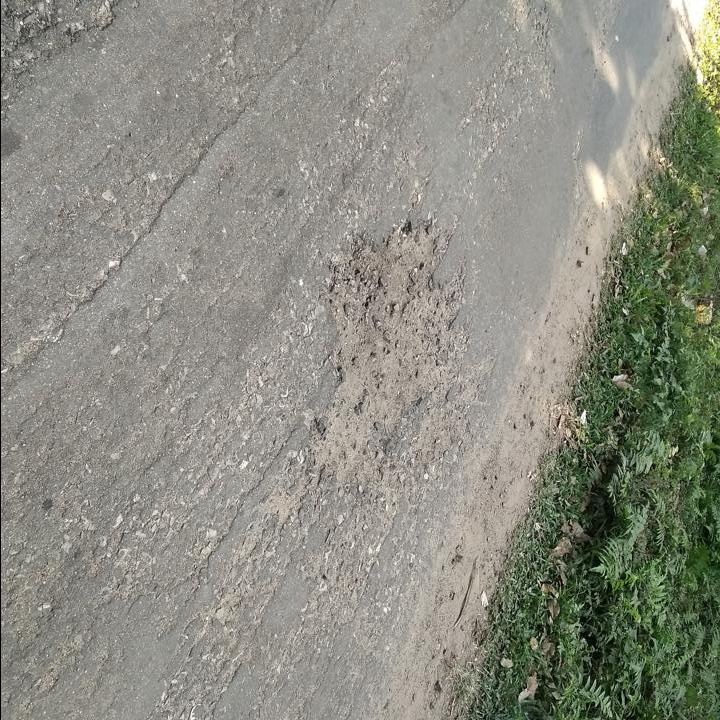pothole: (311, 211, 470, 482)
